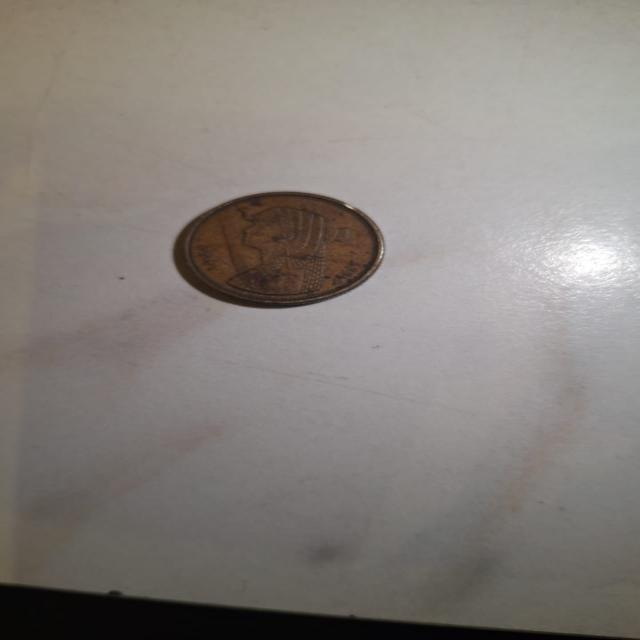Half Pound: (166, 194, 387, 316)
